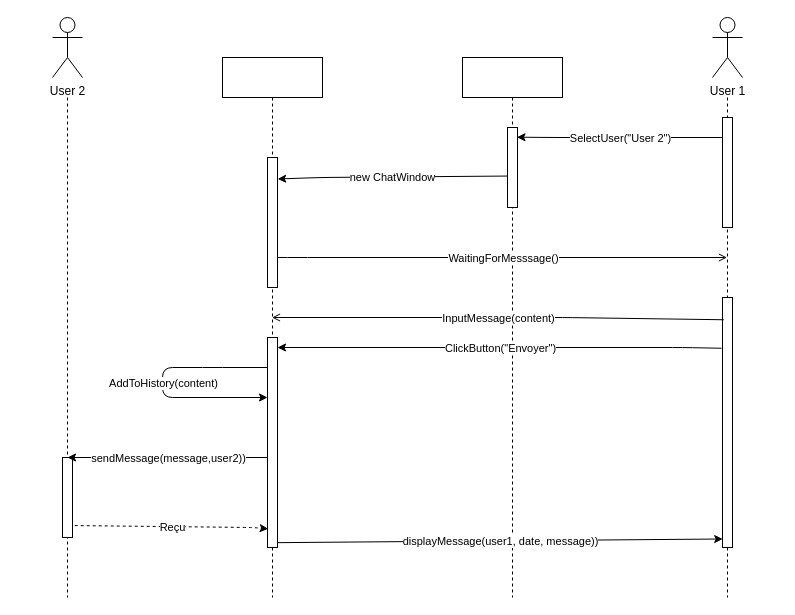
The diagram is 795 pixels wide and 615 high, and some of its shapes have lost their labels. The shapes that lost their labels are listed below. From the top down, each one's box as (x1, y1, x2, y2) in pixels, then its label:
(222, 56, 322, 598): ChatWindow
(462, 56, 562, 598): UserInterface
